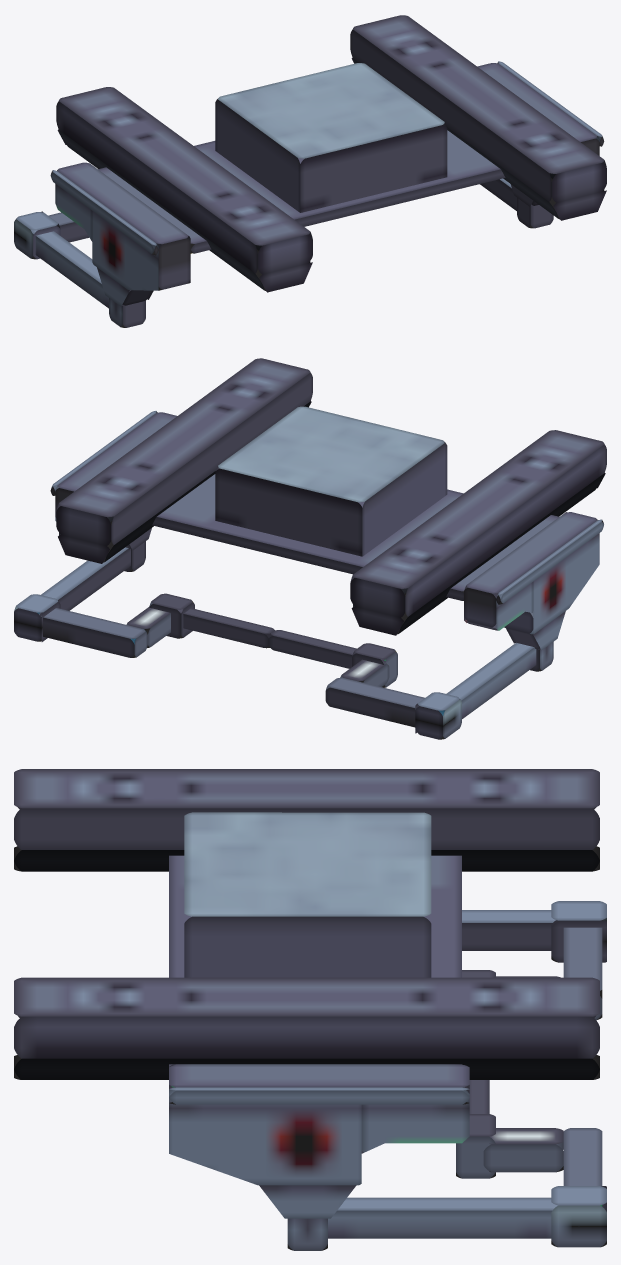
Rendered from df5_top.obj.
3 renders of one model, top to bottom at view 1: azimuth 30°, elevation 25°; view 2: azimuth 150°, elevation 25°; view 3: azimuth 270°, elevation 25°, orthographic. The views are drawn at different scales.
Parts seen in each view (by area): view 1: top; view 2: top; view 3: top.
Boxes of the visible parts, box(x1,y1,x2,y2) form: top: box(14, 15, 606, 327); top: box(14, 358, 606, 739); top: box(14, 769, 606, 1250).
Bounding box in the file's own units: 3.06 × 1.04 × 2.4.
